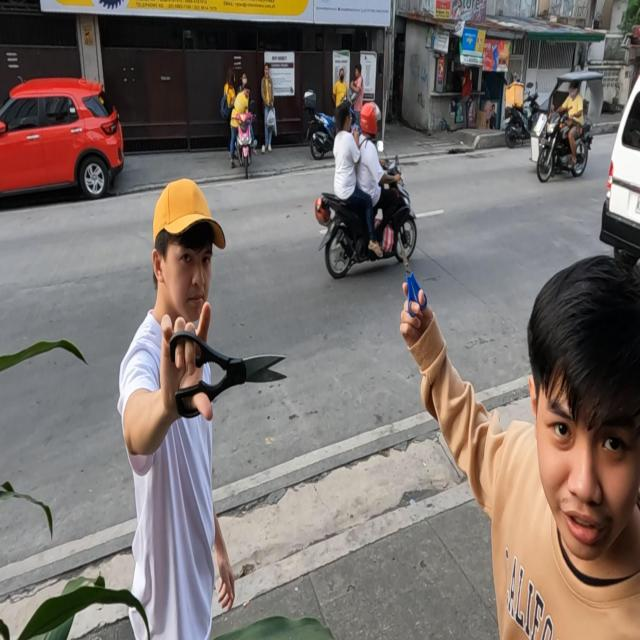scissor: (169, 330, 289, 419), (398, 232, 428, 318)
